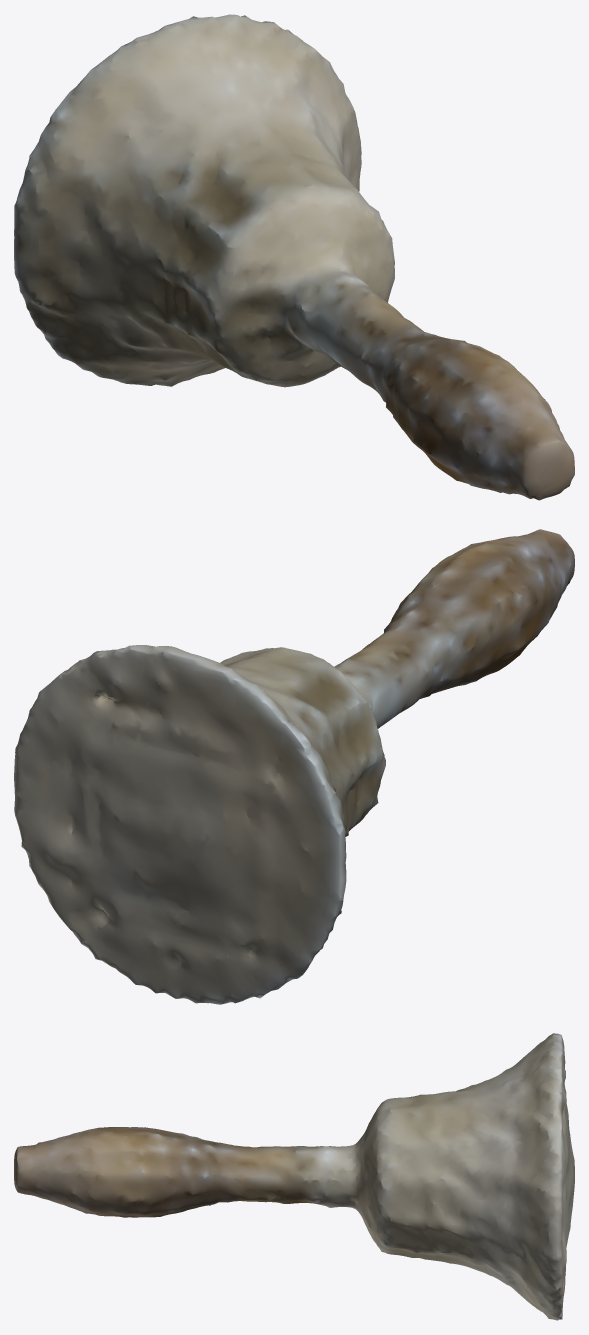
Rendered from bell.glb.
3 renders of one model, top to bottom at view 1: azimuth 30°, elevation 25°; view 2: azimuth 150°, elevation 25°; view 3: azimuth 270°, elevation 25°, orthographic. The views are drawn at different scales.
Size of the model in its own units: 0.5072 by 0.5059 by 0.9977.
